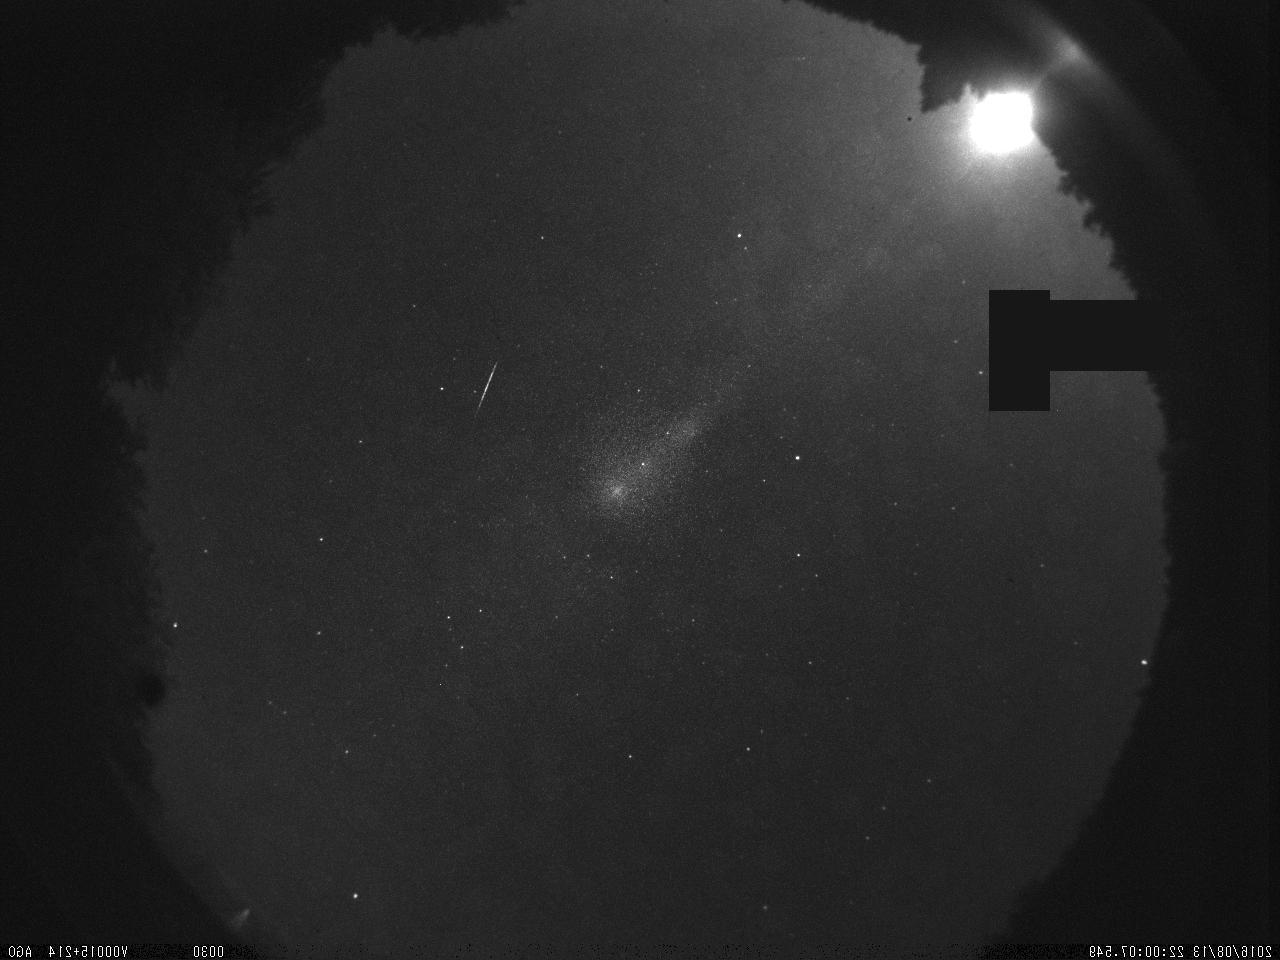meteor: (463, 356, 502, 427)
